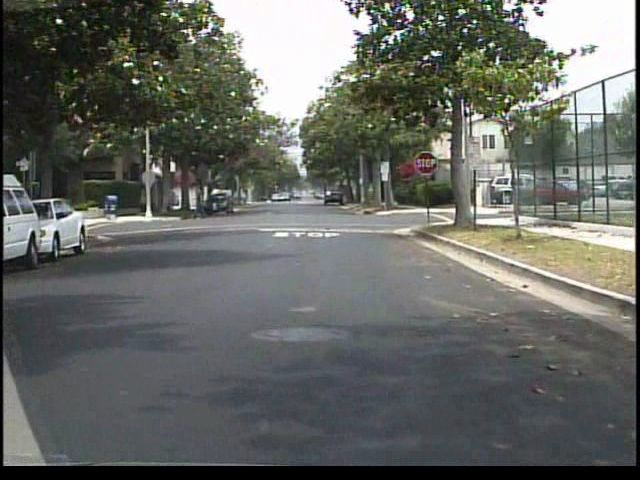person: (192, 178, 216, 221)
